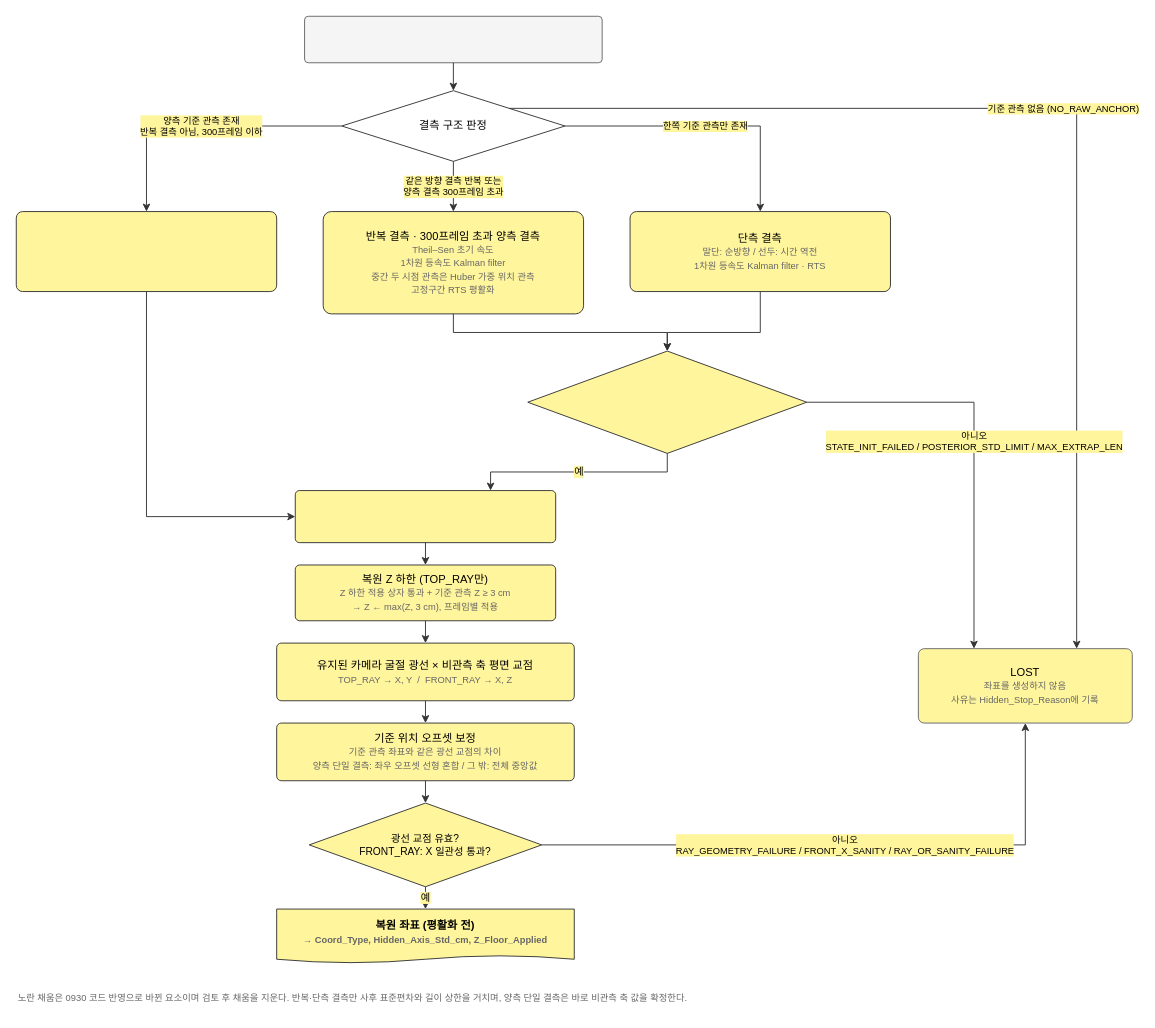
Image size: 1155x1028. Some labels were removed from this diagram. The centre of each missing label's shape, as x and y in pixels:
Recovery_Mode ≠ NONE 인 구간 FRONT_MISSING → TOP_RAY / TOP_MISSING → FRONT_RAY: pixel 453 39
비관측 축 값 확정 TOP_RAY → Z / FRONT_RAY → Y: pixel 425 516
상태 초기화 성공, 사후 표준편차 ≤ Z 6 / Y 2 cm, 단측 예측 길이 ≤ 150 (조건부 300) frame?: pixel 667 401
양측 단일 결측 (300프레임 이하) 비관측 축을 양측 기준 관측 사이에서 선형 보간 사후 표준편차 기준 미적용: pixel 146 251
